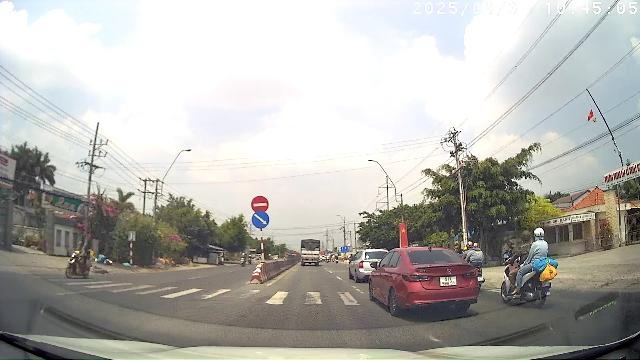102-cam-di-nguoc-chieu: (251, 195, 269, 212)
302a-huong-phai-di-vong-chuong-ngai-vat-1: (251, 211, 270, 229)
